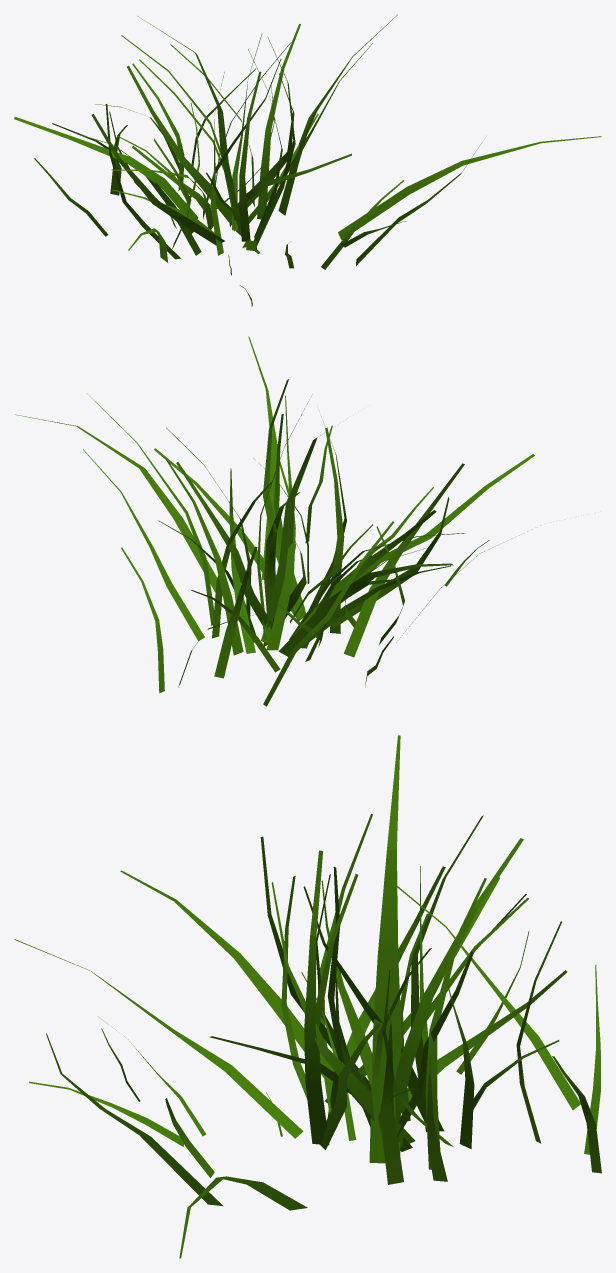
File: grass 3.fbx
3 renders of one model, top to bottom at view 1: azimuth 30°, elevation 25°; view 2: azimuth 150°, elevation 25°; view 3: azimuth 270°, elevation 25°, orthographic. The views are drawn at different scales.
Parts seen in each view (by area): view 1: allGrass_001:grassClump_004polySurface138; view 2: allGrass_001:grassClump_004polySurface138; view 3: allGrass_001:grassClump_004polySurface138.
Boxes of the visible parts, box(x1,y1,x2,y2) form: allGrass_001:grassClump_004polySurface138: box(14, 14, 601, 306); allGrass_001:grassClump_004polySurface138: box(15, 336, 540, 706); allGrass_001:grassClump_004polySurface138: box(14, 735, 601, 1258).
Bounding box in the file's own units: 9.13 × 4.31 × 6.36.
